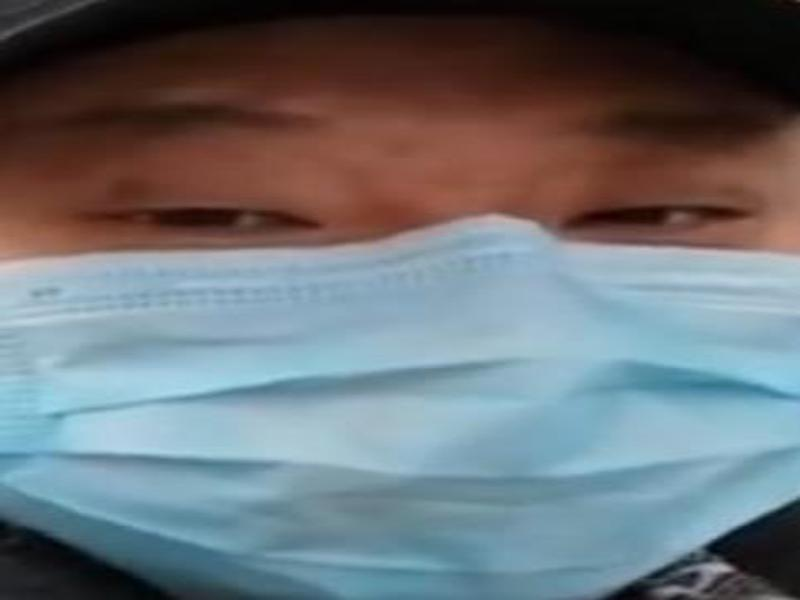with_mask: (3, 36, 796, 595)
